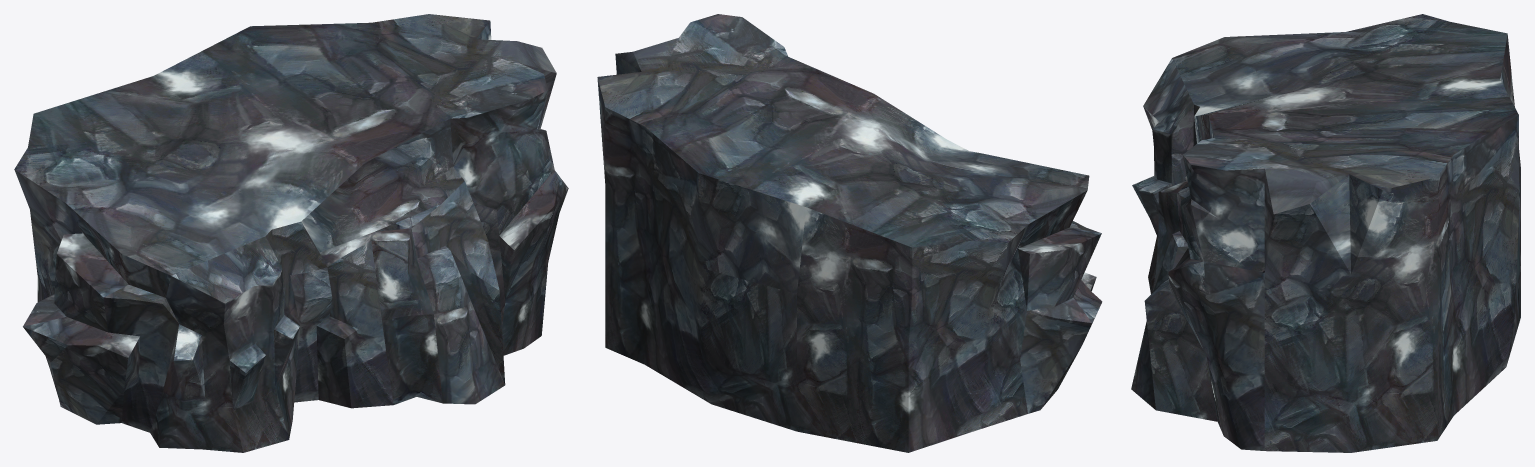
Rendered from shan_03.FBX.
3 renders of one model, left to right at view 1: azimuth 30°, elevation 25°; view 2: azimuth 150°, elevation 25°; view 3: azimuth 270°, elevation 25°, orthographic. The views are drawn at different scales.
Parts seen in each view (by area): view 1: Object004; view 2: Object004; view 3: Object004.
Part boxes in pixels (x1,y1,x2,y2): Object004: (14,14,568,452); Object004: (597,14,1102,452); Object004: (1131,14,1520,452).
Size of the model in its own units: 1753 by 876 by 1120.
1 material, 1 textured.
